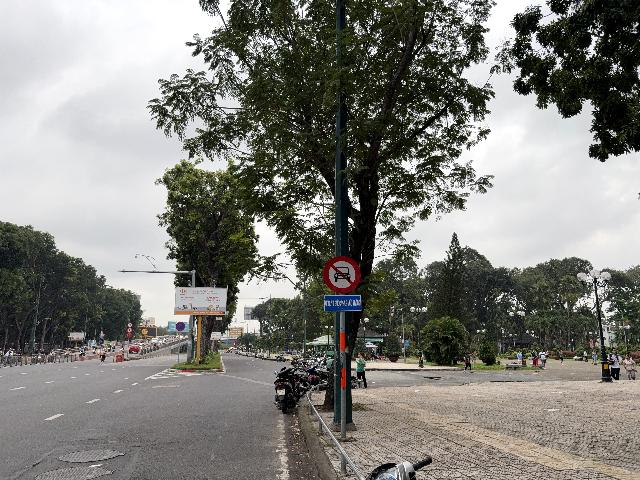cam-o-to: (323, 256, 360, 294)
